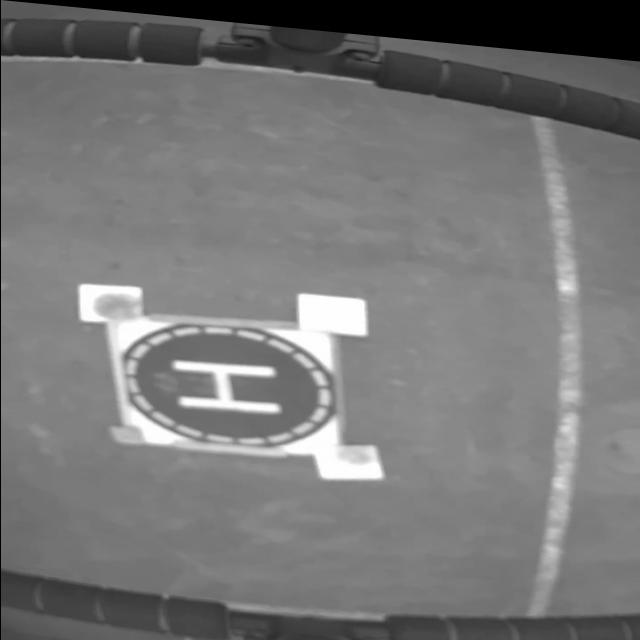Helipad: (169, 355, 282, 410)
